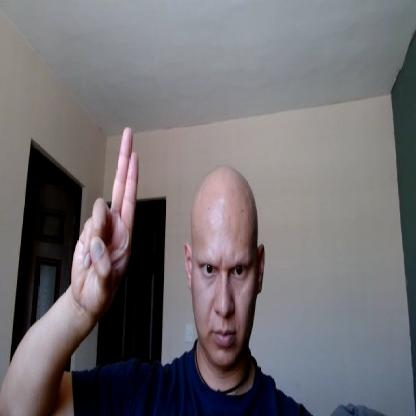U: (74, 126, 140, 309)
